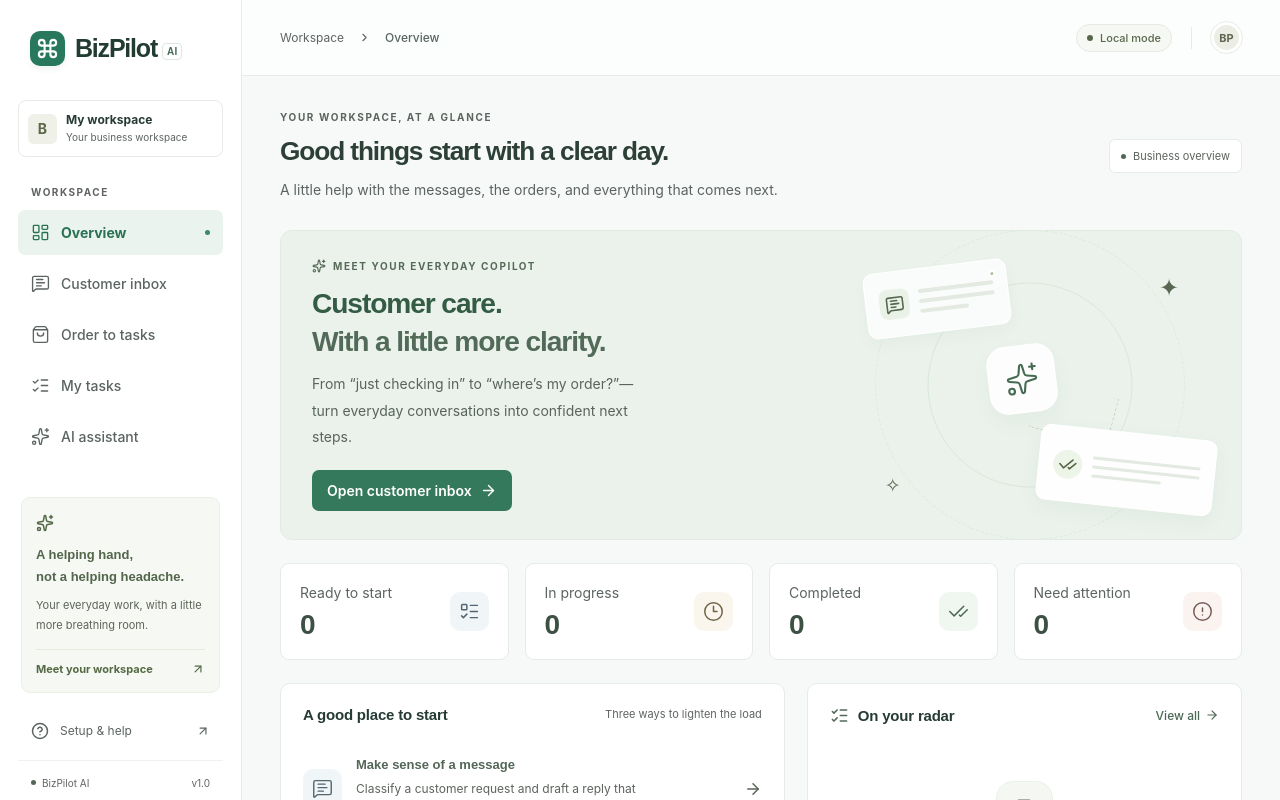
Test: BizPilot workspace › classifies, drafts, edits and copies a reply without sending it
Later steps or results of the test are not shown.
Click the button "Customer inbox": coordinates (120, 284) [18,261,223,306]
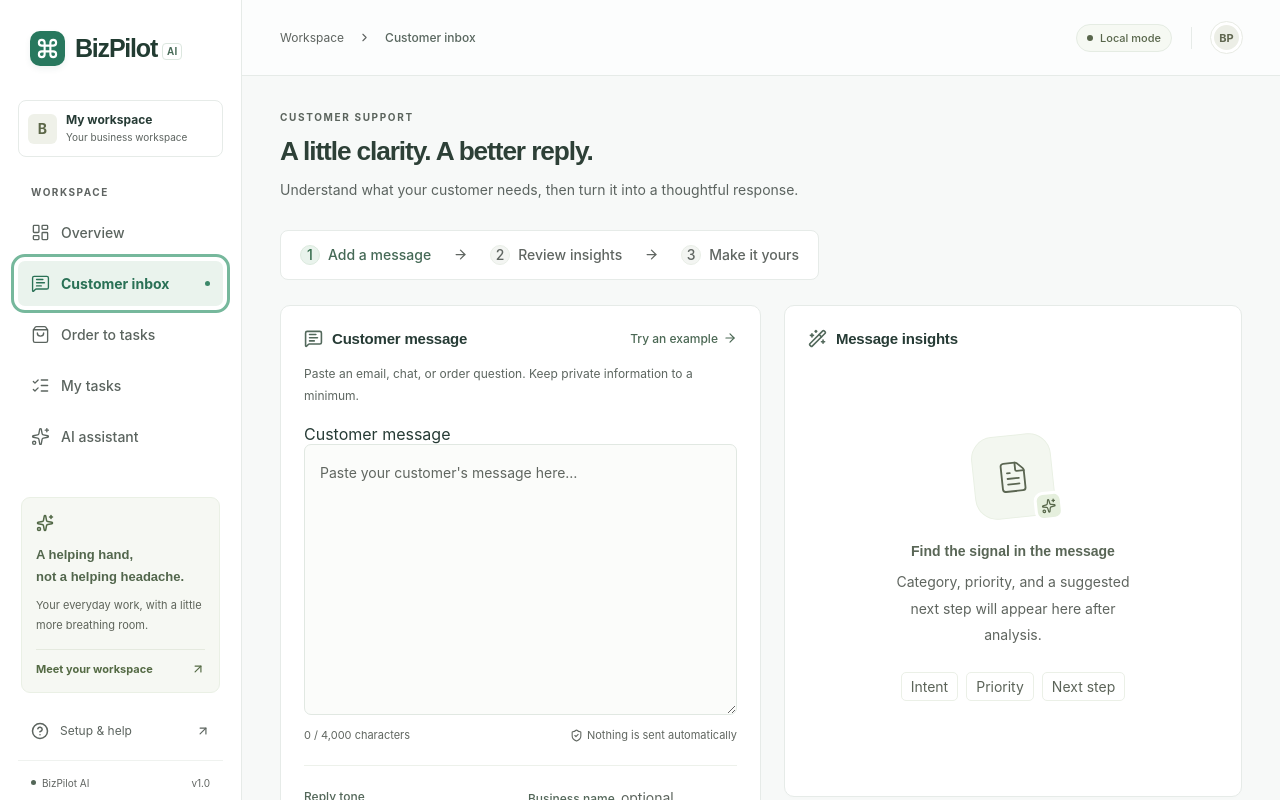
Click the button "Try an example": coordinates (684, 338) [630,331,737,346]
(page scrolled)
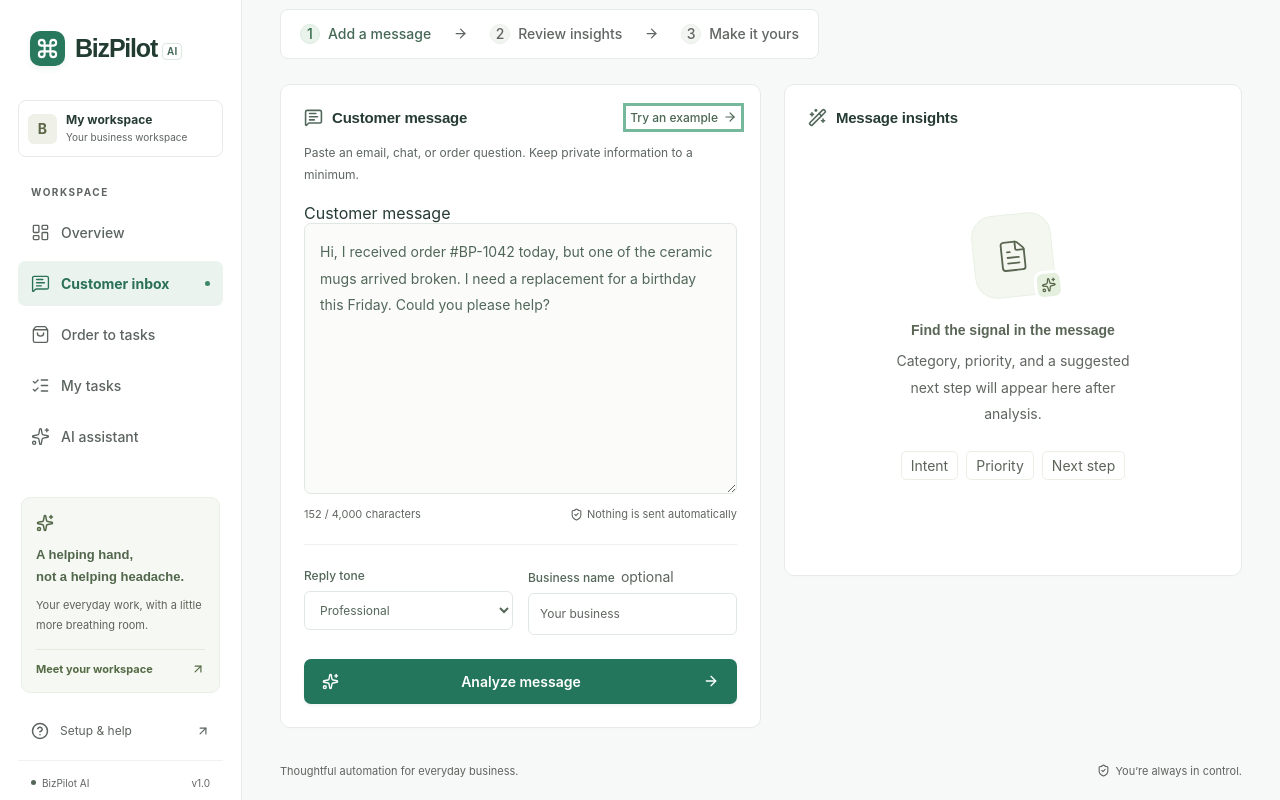
Click the button "Analyze message": coordinates (520, 681) [304,659,737,704]
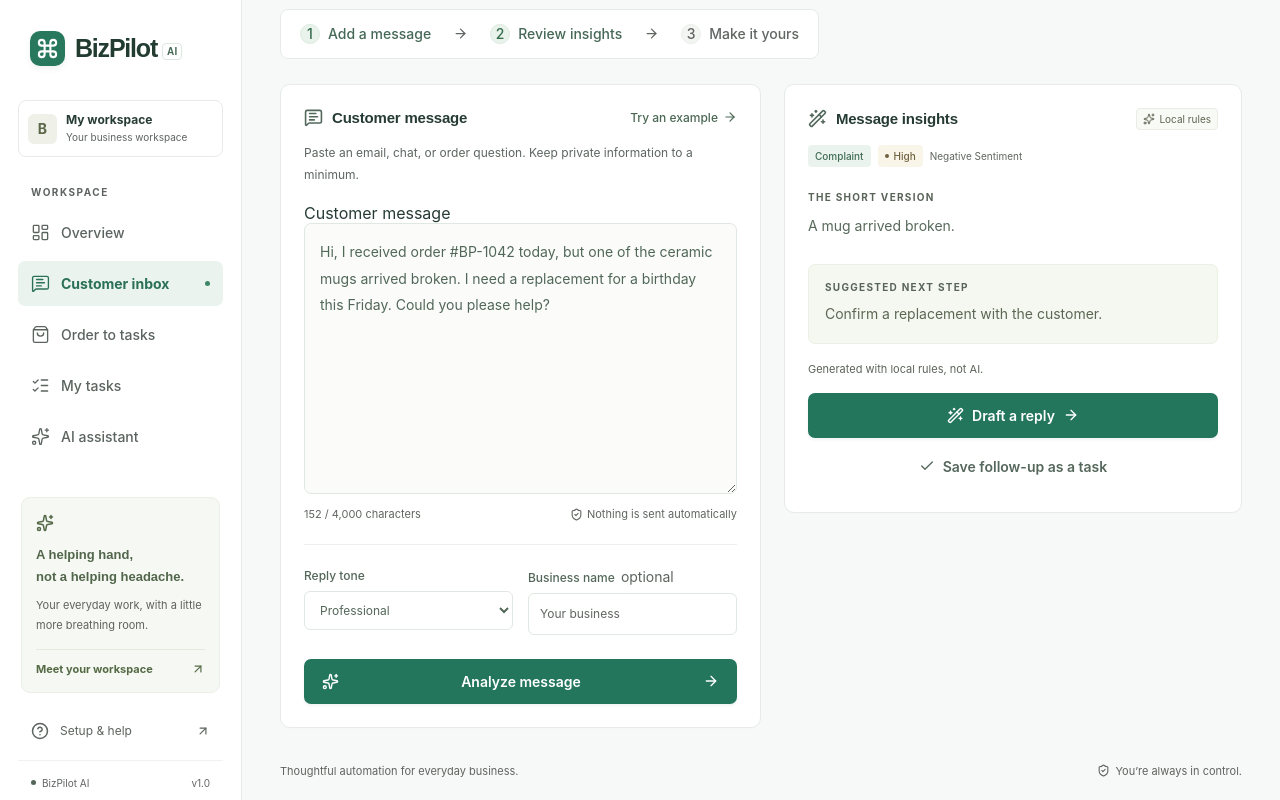
Check: the text "A mug arrived broken." is shown, box [808,217,955,234]
Check: the text "Local rules" is shown, box [1136,108,1218,130]
Click the button "Draft a reply": coordinates (1013, 415) [808,393,1218,438]
(page scrolled)
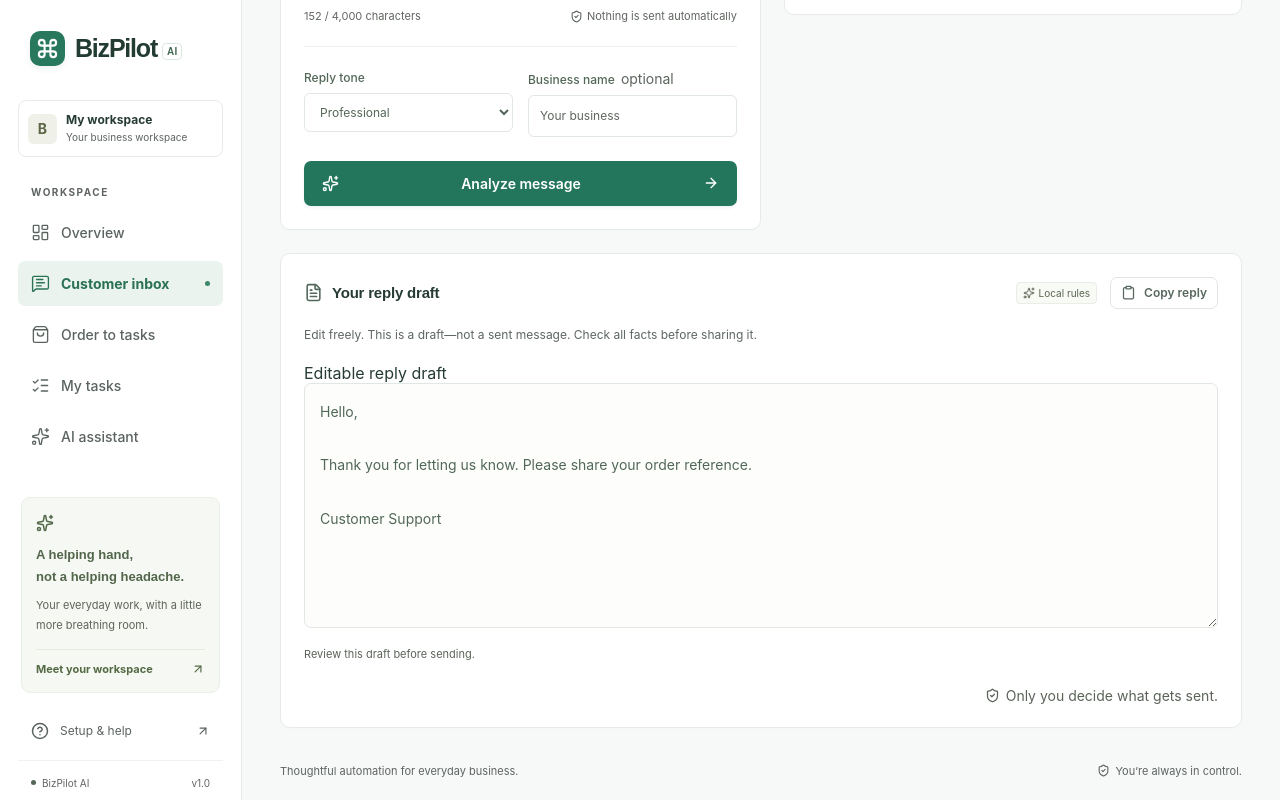
Replace the text in the text box labelled "Editable reply draft" with "My edited reply": coordinates (761, 506) [304,383,1218,628]
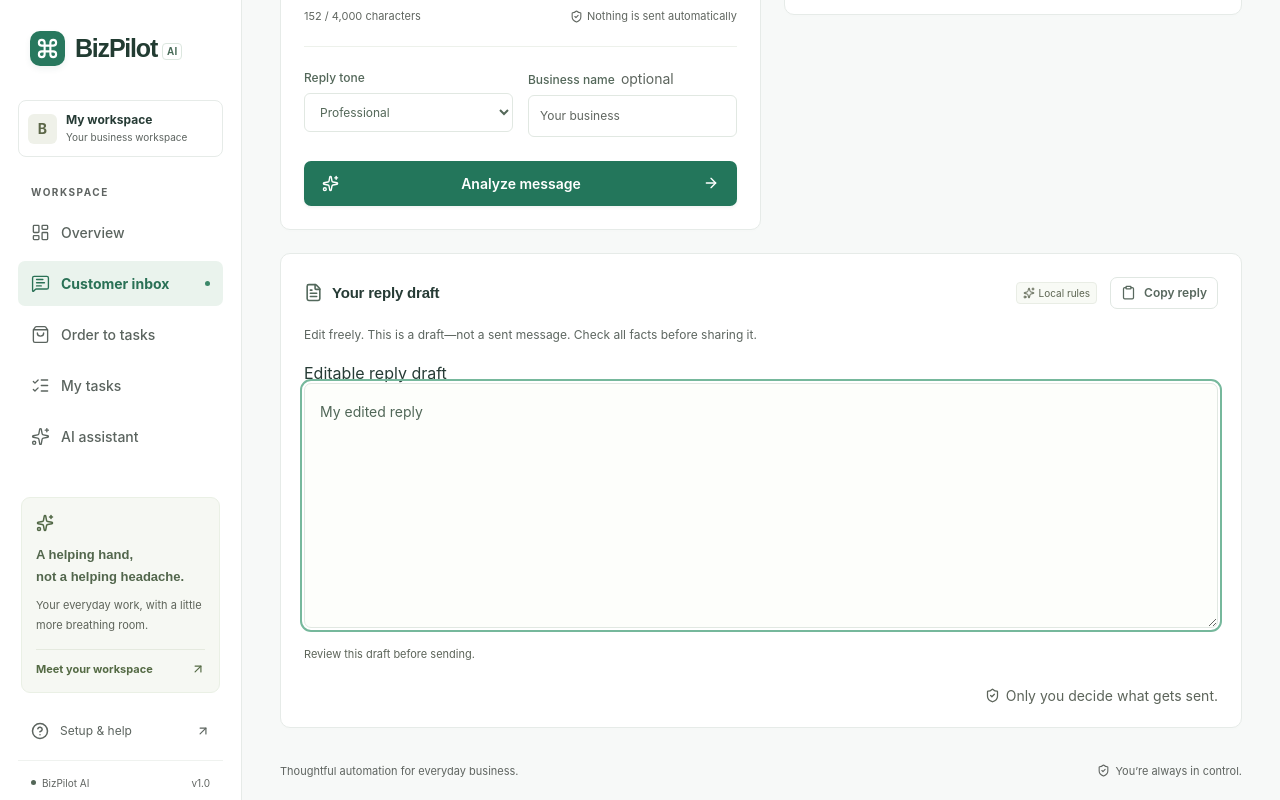
Select "Friendly" in the dropdown labelled "Reply tone": coordinates (408, 113) [304,93,513,132]
(page scrolled)
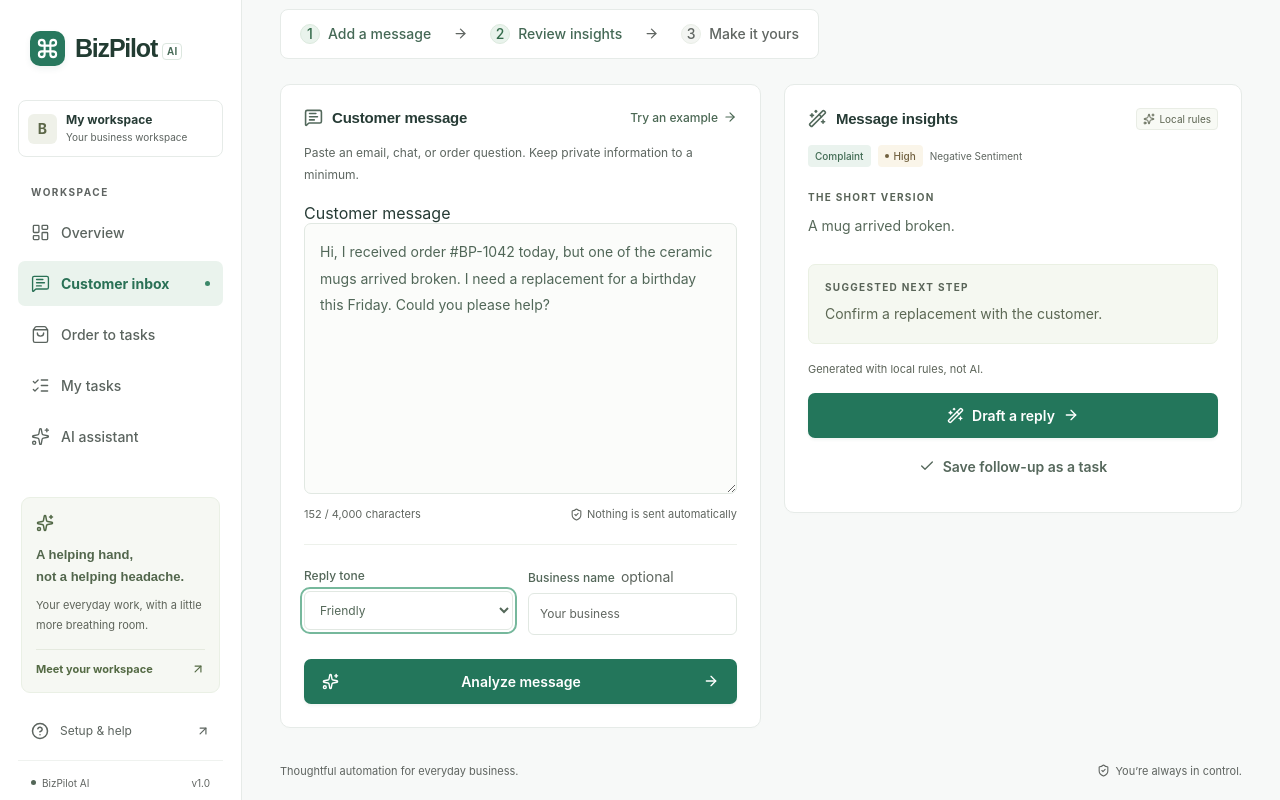
Check: the button "Draft a reply" is shown, box [808,393,1218,438]
Check: the label labelled "Editable reply draft" is gone
